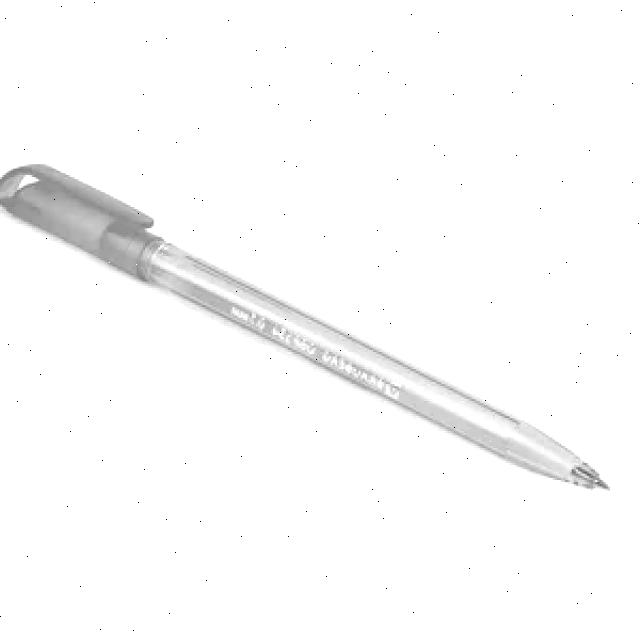pencil: (0, 150, 629, 502)
